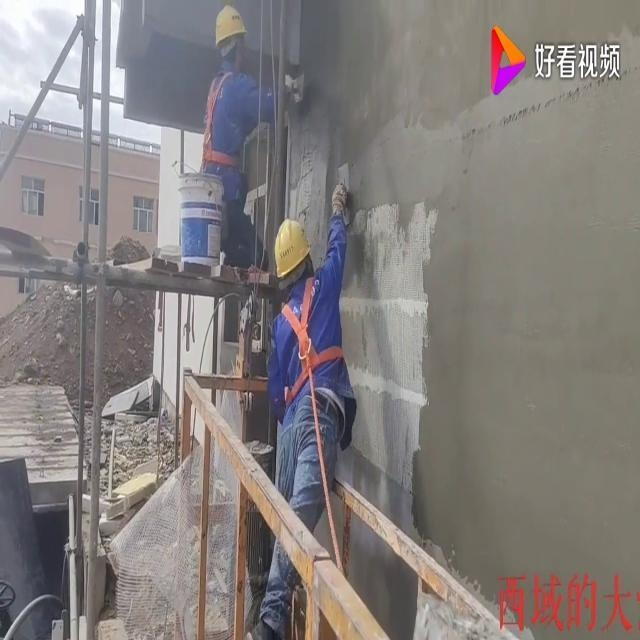Arnes_seguridad: (275, 268, 349, 413), (199, 62, 249, 179)
